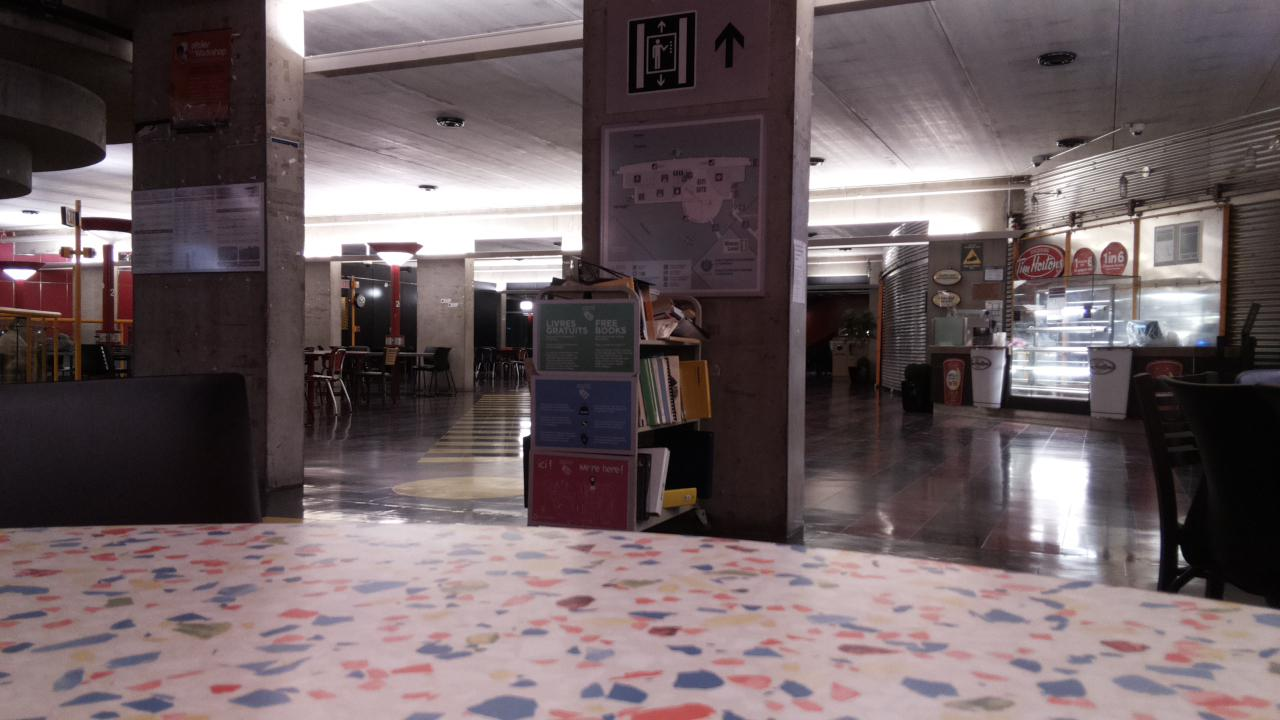sign: (602, 116, 763, 294), (625, 4, 772, 94), (131, 182, 263, 273)
